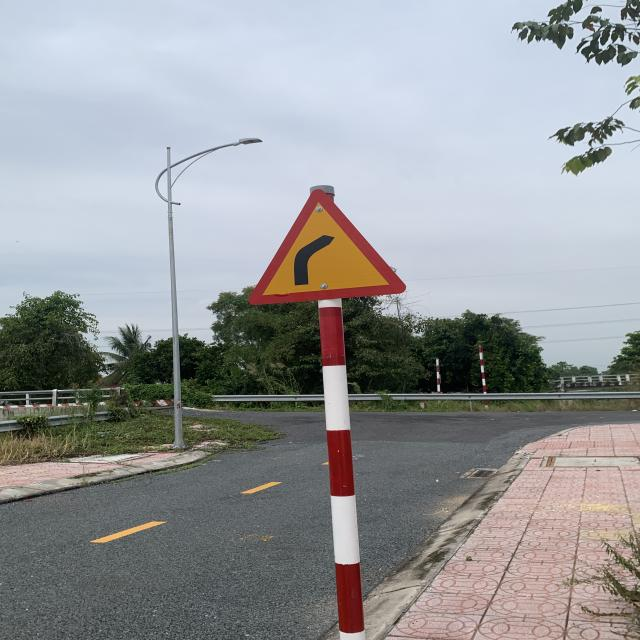Duong_Nguoi_Di_Bo_Cat_Ngang: (246, 187, 408, 306)
